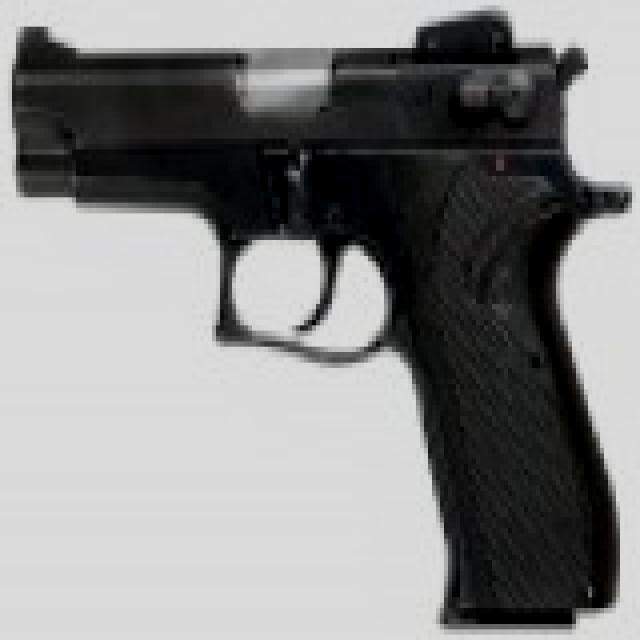pistol: (12, 11, 640, 629)
